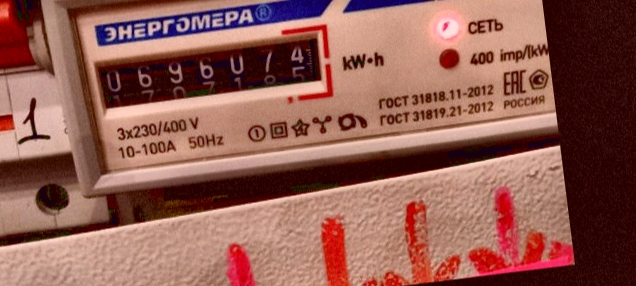0: (101, 66, 123, 93), (227, 48, 246, 76)
4: (287, 39, 306, 65)
5: (290, 63, 307, 83)
6: (134, 60, 156, 89), (195, 54, 215, 79)
7: (256, 45, 277, 73)
9: (164, 57, 185, 84)
screen: (81, 18, 341, 129)
